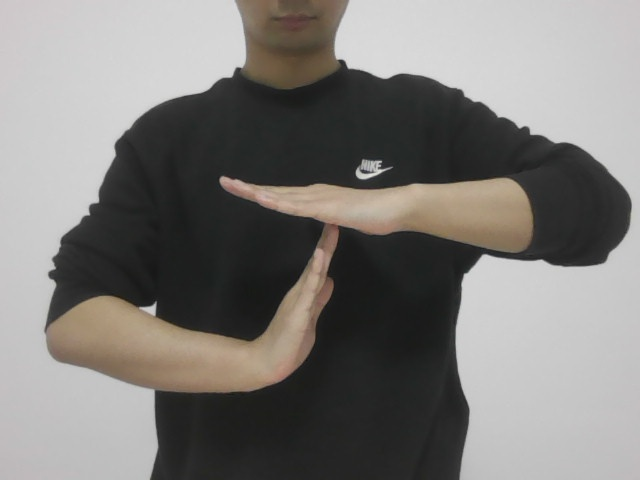stop: (173, 153, 431, 399)
